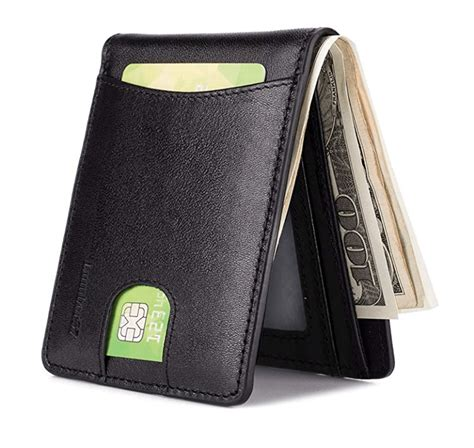cuero: (39, 31, 396, 407)
